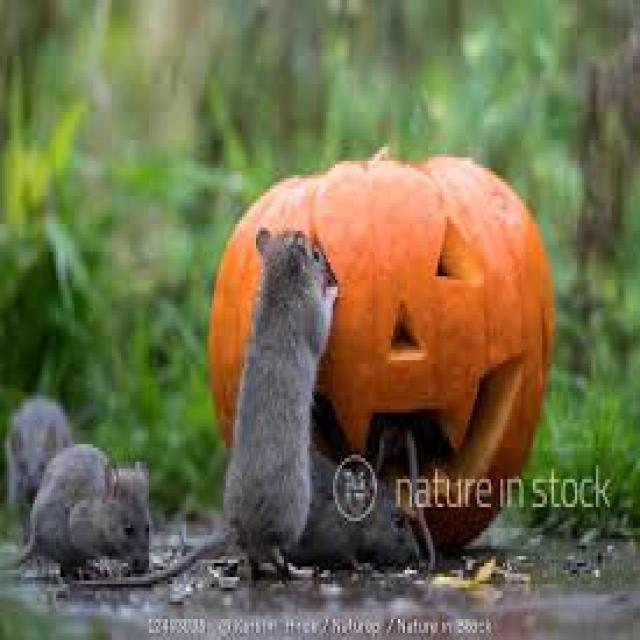Rat: (181, 199, 372, 631), (3, 374, 182, 587)
